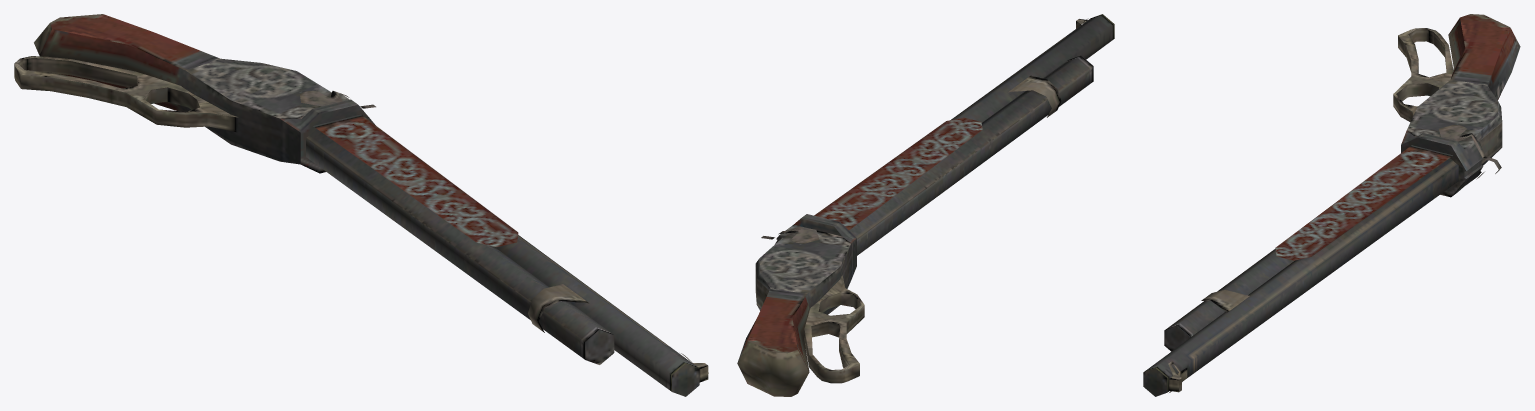
Rendered from Pickup_WeaponSdq02.glb.
3 renders of one model, left to right at view 1: azimuth 30°, elevation 25°; view 2: azimuth 150°, elevation 25°; view 3: azimuth 330°, elevation 25°, orthographic. The views are drawn at different scales.
Visible parts, largest first — view 1: pk_weapon_sdq02; view 2: pk_weapon_sdq02; view 3: pk_weapon_sdq02.
Boxes of the visible parts, x1,y1,x2,y2 form: pk_weapon_sdq02: (14, 14, 708, 396); pk_weapon_sdq02: (737, 14, 1114, 396); pk_weapon_sdq02: (1143, 14, 1520, 396).
Size of the model in its own units: 1.13 by 0.2699 by 4.19.
Materials: 1 (1 with a texture image).
